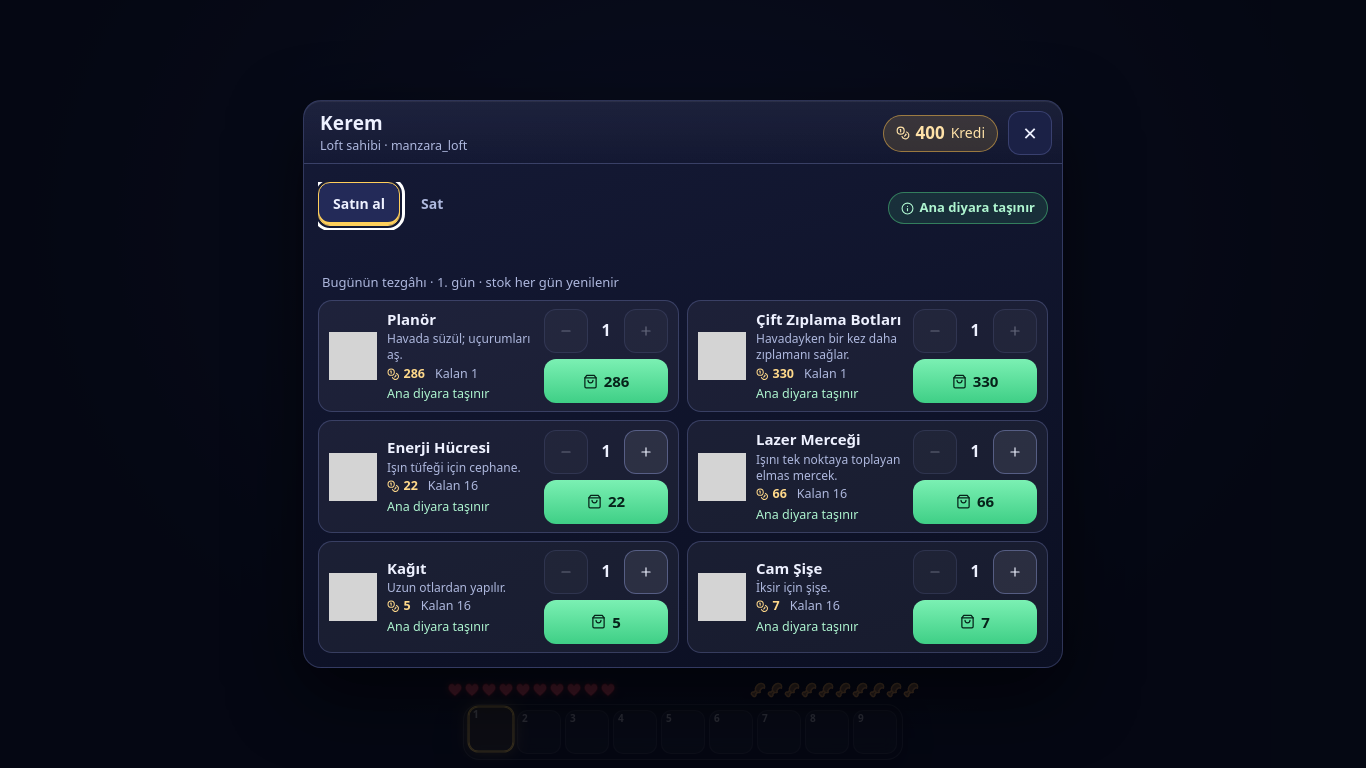
Scenario: KesifGameScreen: diyalog ve satıcı panelleri › ui 'vendor': VendorPanel getVendor görünümünü çizer; satın al vendorBuy'a gider; kapat closeVendor çağırır
The image size is (1366, 768).
Expected: the dialog "Kerem" is shown, [303,100,1063,668]
Click the button with test id "buy-".
click(606, 381)  # box [544,359,668,403]
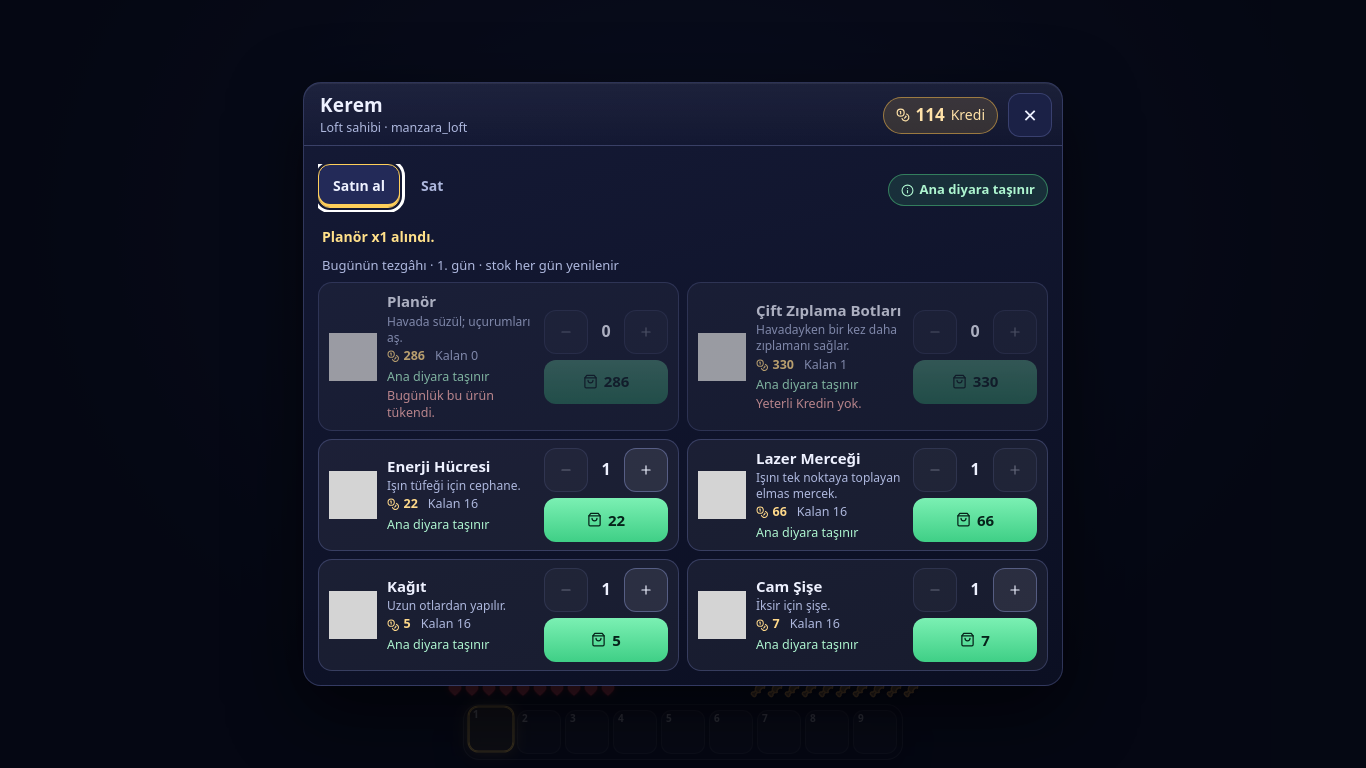
Click the button named "Kapat".
click(1030, 115)  # box [1008,93,1052,137]
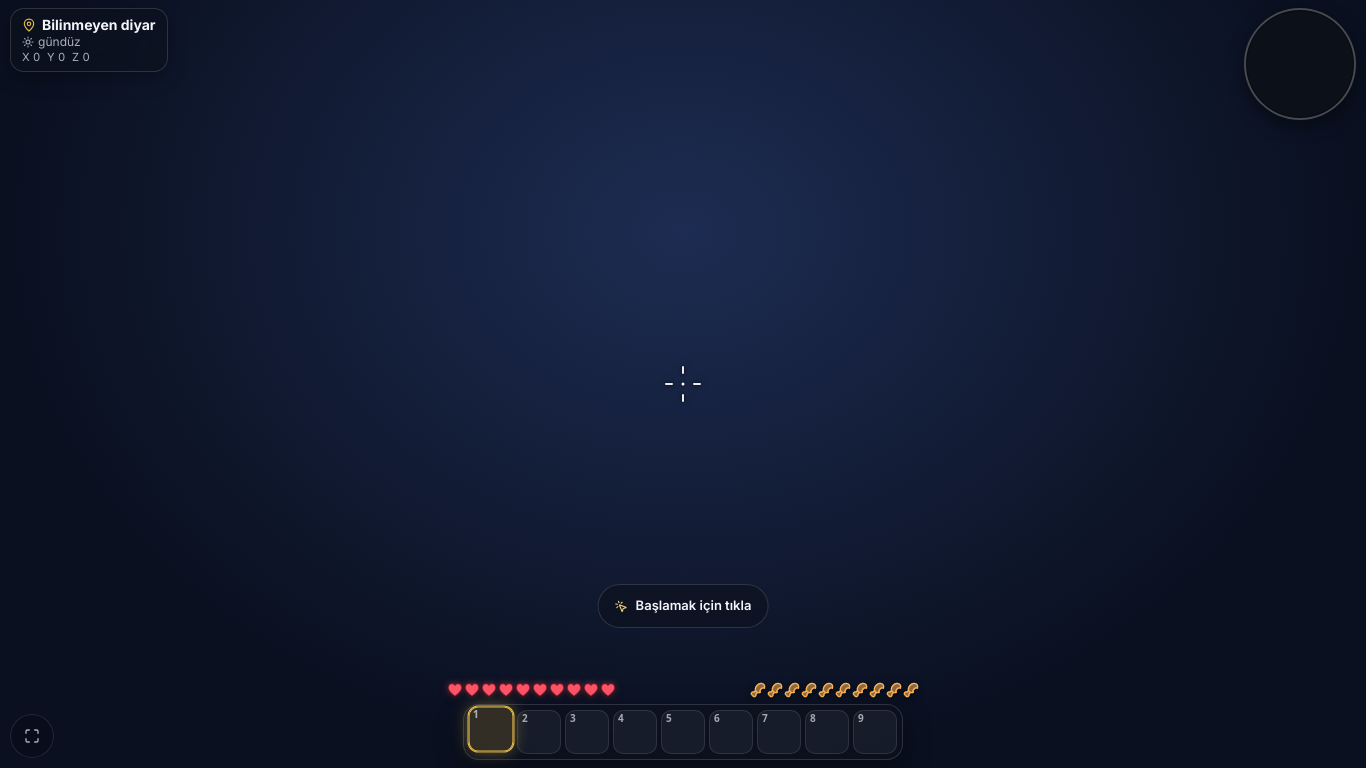
Expected: the dialog with test id "vendor-panel" is gone
